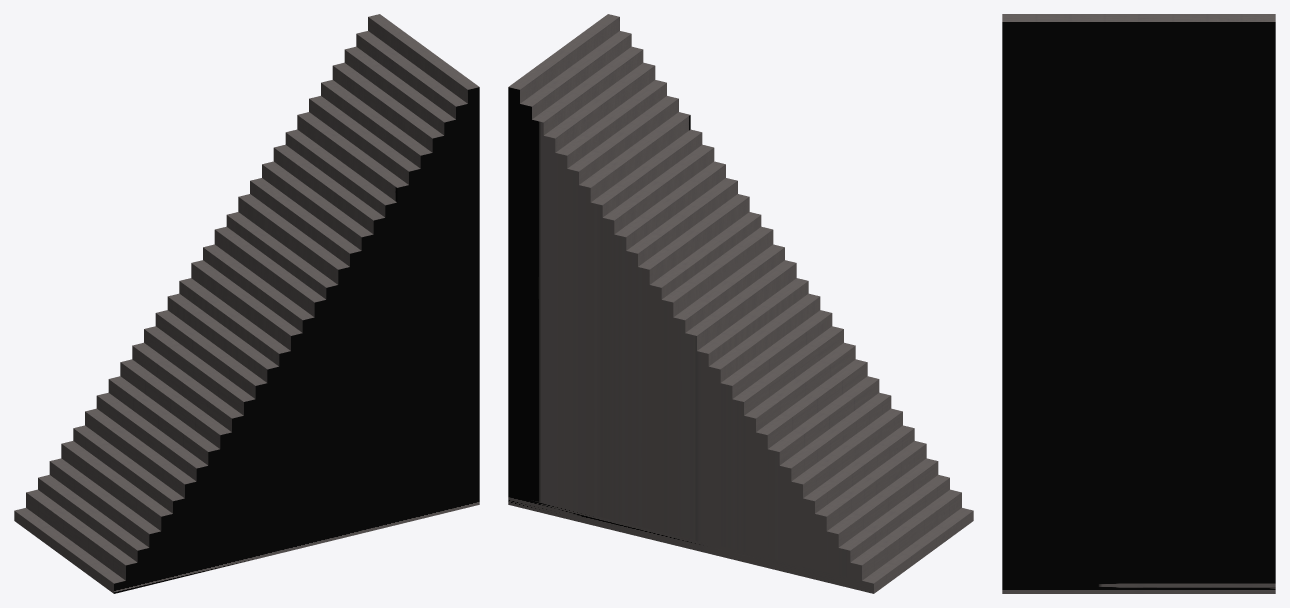
File: 134_stair.fbx
3 renders of one model, left to right at view 1: azimuth 30°, elevation 25°; view 2: azimuth 150°, elevation 25°; view 3: azimuth 270°, elevation 25°, orthographic. The views are drawn at different scales.
Visible parts, largest first — view 1: 134_escalier; view 2: 134_escalier; view 3: 134_escalier.
Boxes of the visible parts, x1,y1,x2,y2 form: 134_escalier: [14, 14, 479, 593]; 134_escalier: [508, 14, 973, 593]; 134_escalier: [1002, 14, 1275, 593].
Bounding box in the file's own units: 450 × 492 × 213.
1 material, 1 textured.
